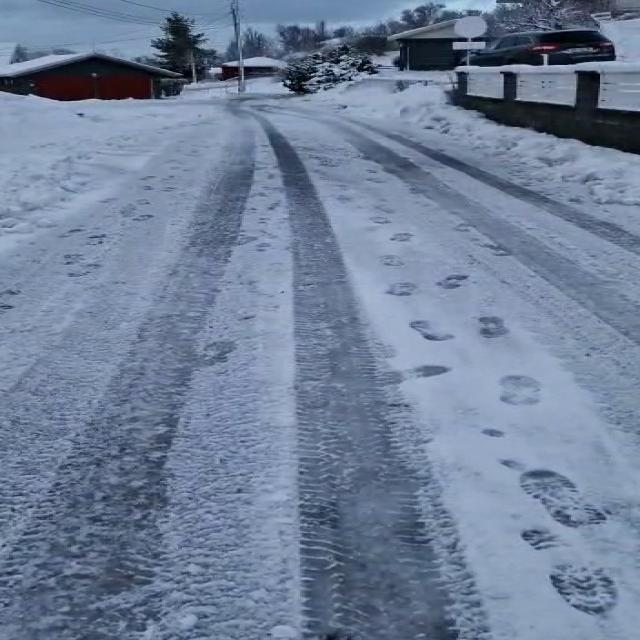path: (0, 97, 640, 640)
